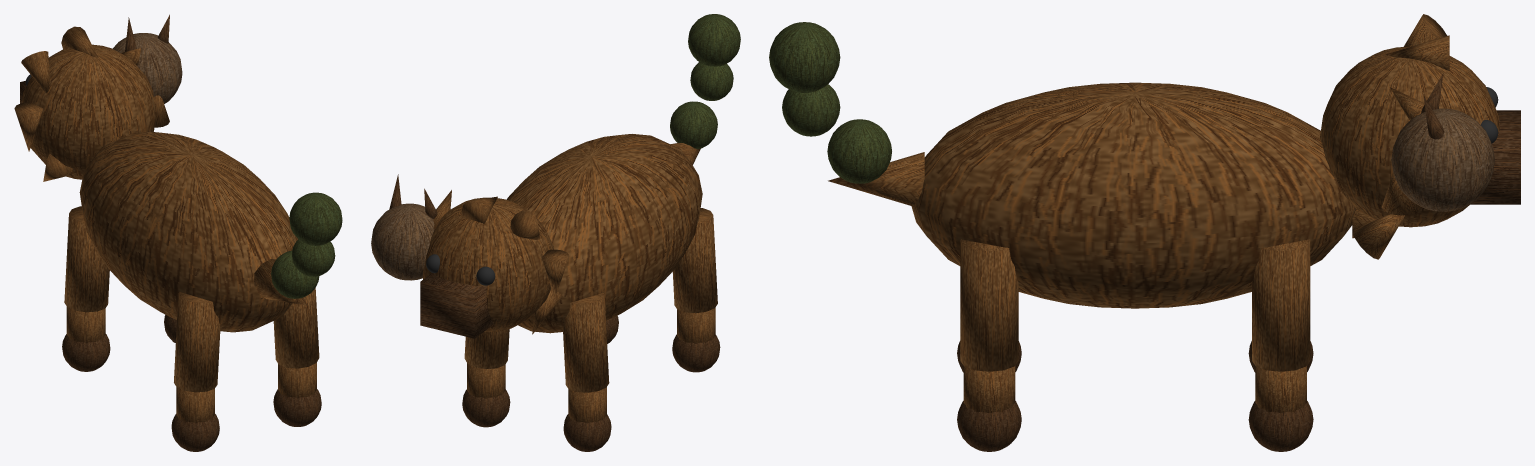
Rendered from chimera.glb.
The picture shows the model from 3 angles, left to right: view 1: azimuth 30°, elevation 25°; view 2: azimuth 150°, elevation 25°; view 3: azimuth 270°, elevation 25°; orthographic projection. The views are drawn at different scales.
Visible parts, largest first — view 1: Body, Head, LegUpper.001, LegUpper, LegUpper.003, GoatHead, SerpHead, SerpSeg1, Paw, Paw.001, Paw.003, SerpSeg2 (+9 smaller); view 2: Body, Head, LegUpper, GoatHead, LionSnout, LegUpper.001, SerpHead, SerpSeg1, LegUpper.002, SerpSeg2, Paw.002, Paw (+8 smaller); view 3: Body, Head, GoatHead, LegUpper.002, LegUpper.003, SerpHead, SerpSeg1, LionSnout, Paw.002, Paw.003, SerpSeg2, TailBase (+6 smaller).
Boxes of the visible parts, box(x1,y1,x2,y2) form: Body: box(79, 131, 298, 332); Head: box(22, 44, 156, 179); LegUpper.001: box(174, 291, 220, 392); LegUpper: box(64, 206, 109, 312); LegUpper.003: box(273, 288, 319, 368); GoatHead: box(112, 33, 182, 103); SerpHead: box(289, 192, 342, 245); SerpSeg1: box(271, 250, 319, 298); Paw: box(62, 334, 110, 371); Paw.001: box(171, 414, 219, 451); Paw.003: box(273, 389, 321, 426); SerpSeg2: box(291, 239, 335, 276); Body: box(506, 134, 702, 333); Head: box(422, 197, 553, 332); LegUpper: box(562, 293, 609, 392); GoatHead: box(371, 203, 434, 280); LionSnout: box(420, 273, 494, 338); LegUpper.001: box(672, 208, 717, 313); SerpHead: box(688, 14, 740, 66); SerpSeg1: box(670, 101, 717, 149); LegUpper.002: box(464, 329, 509, 369); SerpSeg2: box(690, 62, 733, 100); Paw.002: box(462, 389, 510, 427); Paw: box(563, 414, 611, 451); Body: box(911, 82, 1356, 308); Head: box(1320, 46, 1499, 227); GoatHead: box(1391, 108, 1494, 211); LegUpper.002: box(1252, 239, 1310, 371); LegUpper.003: box(960, 239, 1018, 371); SerpHead: box(769, 22, 840, 92); SerpSeg1: box(827, 119, 891, 183); LionSnout: box(1469, 110, 1520, 204); Paw.002: box(1248, 401, 1313, 451); Paw.003: box(957, 401, 1021, 451); SerpSeg2: box(782, 84, 840, 136); TailBase: box(828, 152, 924, 206).
Size of the model in its own units: 0.6316 by 1 by 1.74.
Materials: 5 (4 with a texture image).
